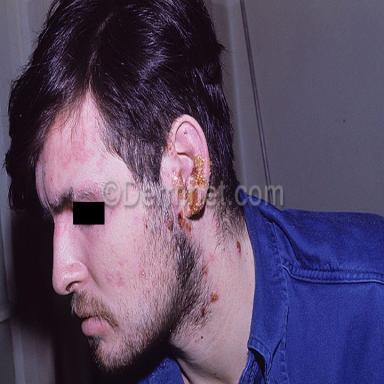Impetigo: (172, 153, 210, 188), (178, 209, 191, 233), (210, 290, 218, 303)
